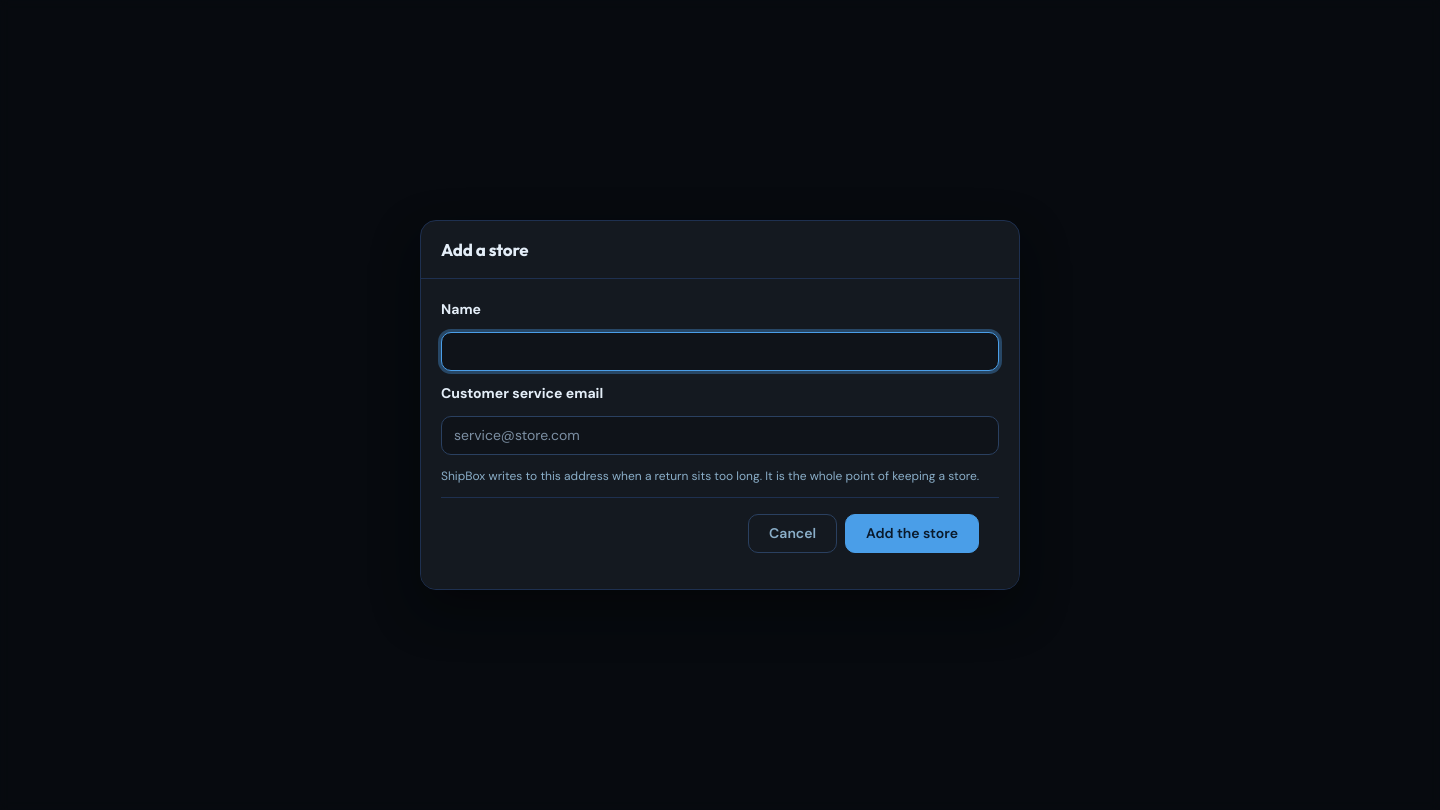
it: what it refuses › refuses a store with no name
Step 1. Click the button "Add the store" → (912, 534), box left=845, top=514, right=979, bottom=553
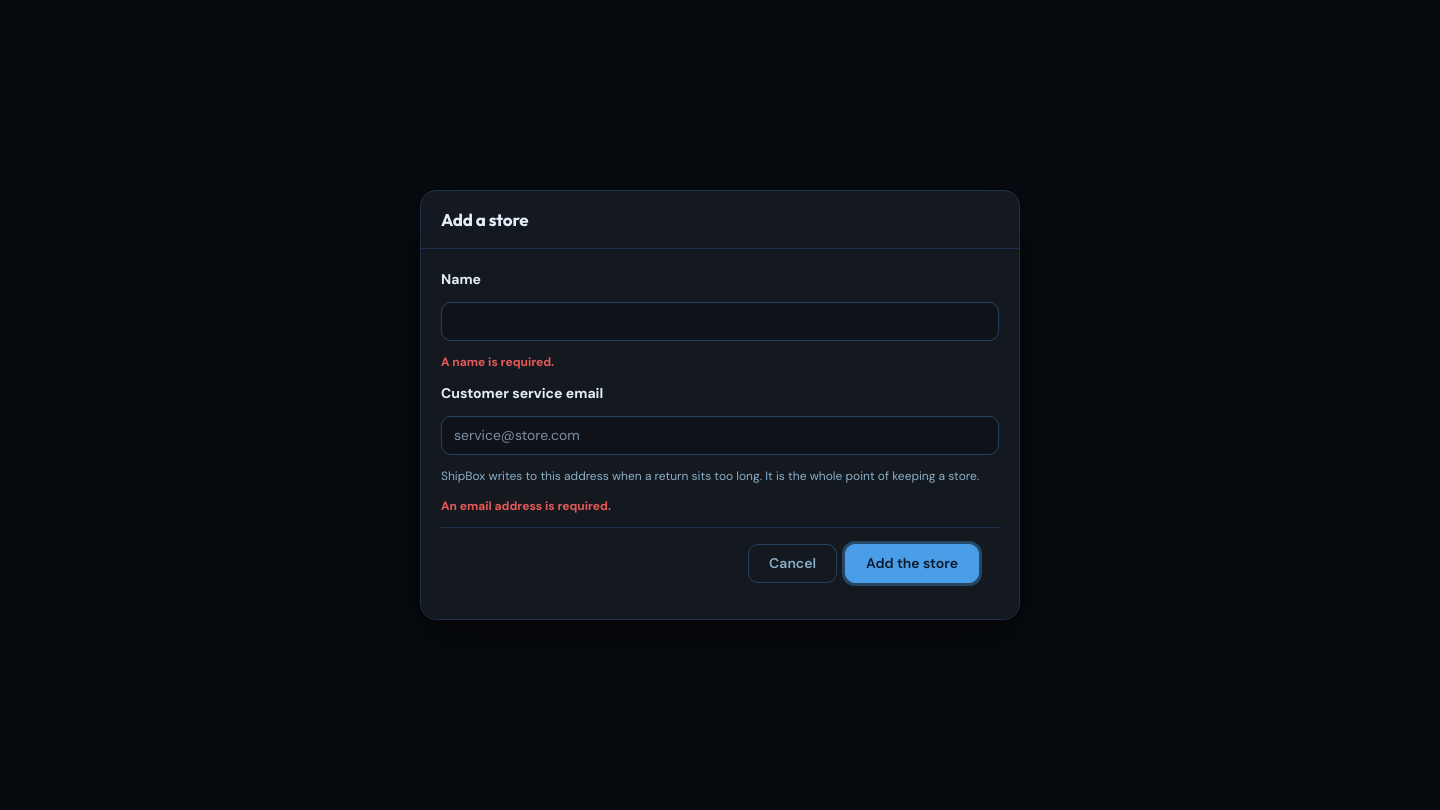
Expected: the text "A name is required." is shown, left=441, top=354, right=554, bottom=370
